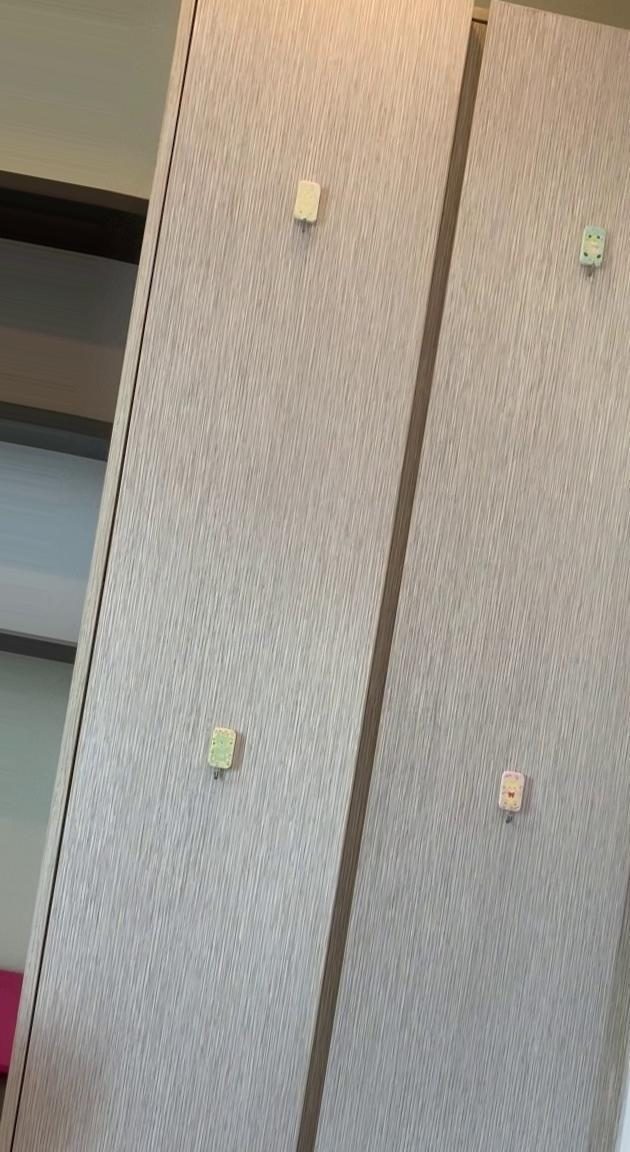Armario: (11, 15, 614, 1143)
